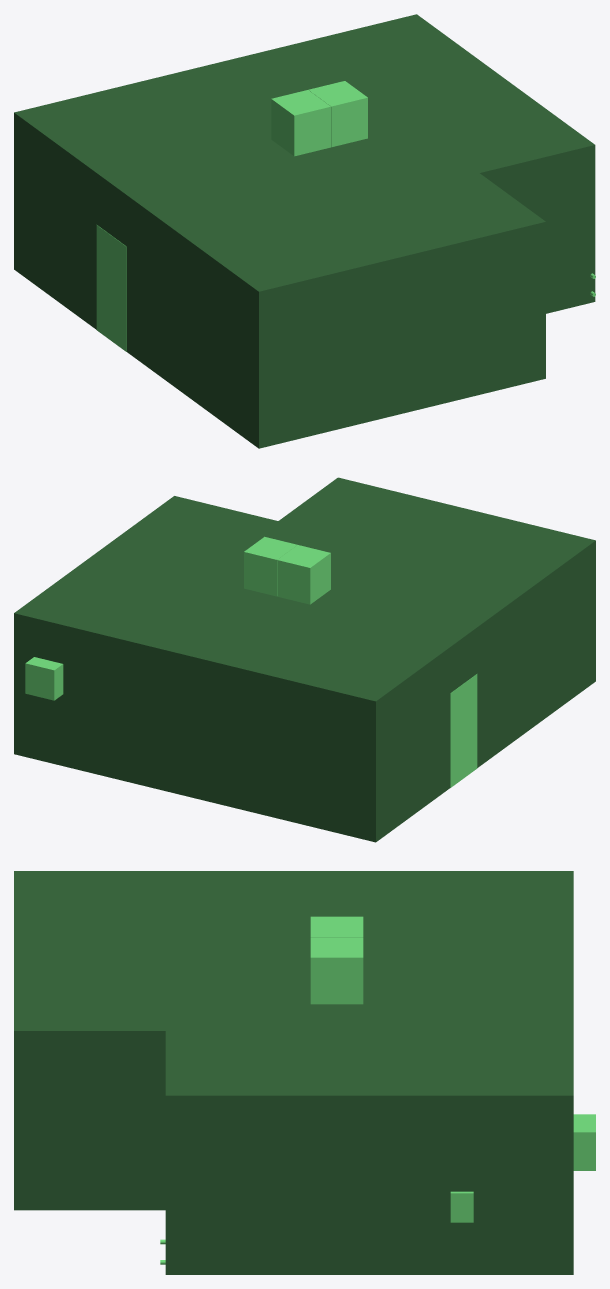
File: lab.glb
3 views of the same model, one above another, from view 1: azimuth 30°, elevation 25°; view 2: azimuth 150°, elevation 25°; view 3: azimuth 270°, elevation 25° (orthographic). The views are drawn at different scales.
Parts seen in each view (by area): view 1: Room-col, Cube.061, Door; view 2: Room-col, Cube.061, Door, Cube.043; view 3: Room-col, Cube.061, Cube.043, Cube.049.
Part boxes in pixels (bbox=[...]): Room-col: bbox=[14, 14, 595, 448]; Cube.061: bbox=[271, 81, 367, 156]; Door: bbox=[96, 225, 126, 351]; Room-col: bbox=[14, 477, 595, 842]; Cube.061: bbox=[244, 536, 330, 604]; Door: bbox=[450, 674, 477, 787]; Cube.043: bbox=[25, 657, 63, 700]; Room-col: bbox=[14, 871, 573, 1274]; Cube.061: bbox=[310, 916, 363, 1004]; Cube.043: bbox=[573, 1114, 595, 1170]; Cube.049: bbox=[450, 1191, 473, 1222].
Size of what is drawn, in the model's own units: 18.96 by 8.84 by 20.59.
